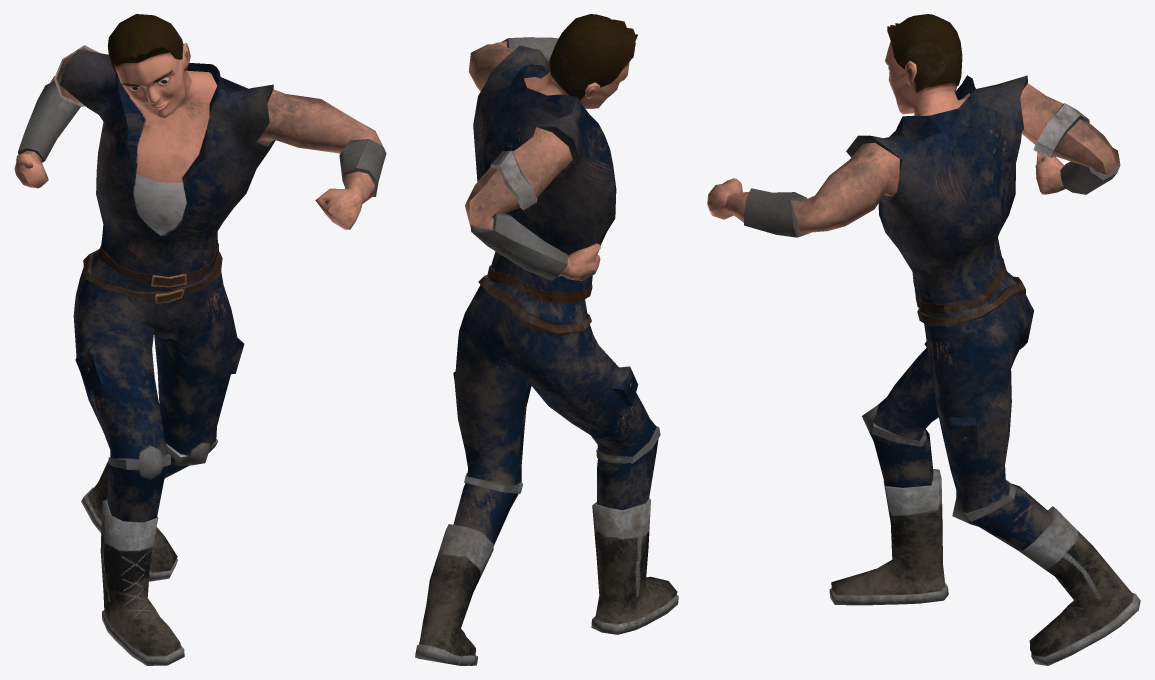
The model's file is Anim_ataque_d3_jugador.0036.obj.
The picture shows the model from 3 angles, left to right: view 1: azimuth 30°, elevation 25°; view 2: azimuth 150°, elevation 25°; view 3: azimuth 270°, elevation 25°; orthographic projection. The views are drawn at different scales.
Parts seen in each view (by area): view 1: polySurface1; view 2: polySurface1; view 3: polySurface1.
Boxes of the visible parts, x1,y1,x2,y2 form: polySurface1: [14, 14, 386, 665]; polySurface1: [415, 14, 678, 665]; polySurface1: [707, 14, 1140, 665].
Bounding box in the file's own units: 3.73 × 9.13 × 5.9.
